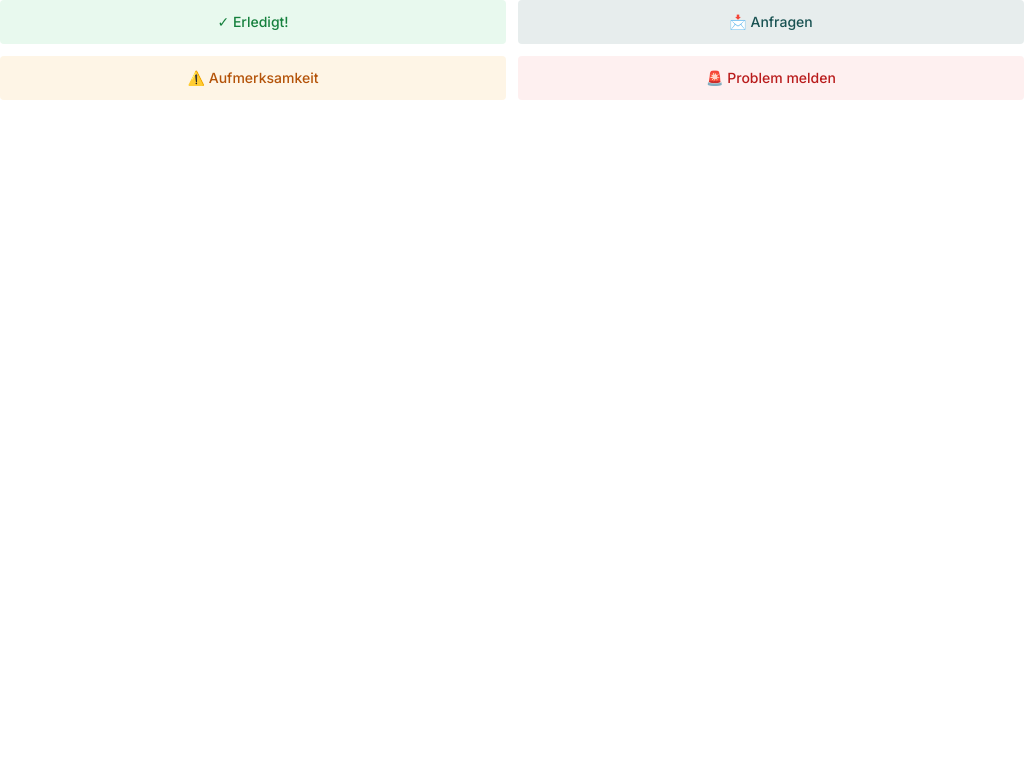
Test case: ChoreActions › closes the modal when the ✕ button is clicked
Click the button "✓ Erledigt!". click: (253, 22)
box: top-left (0, 0), bottom-right (506, 44)
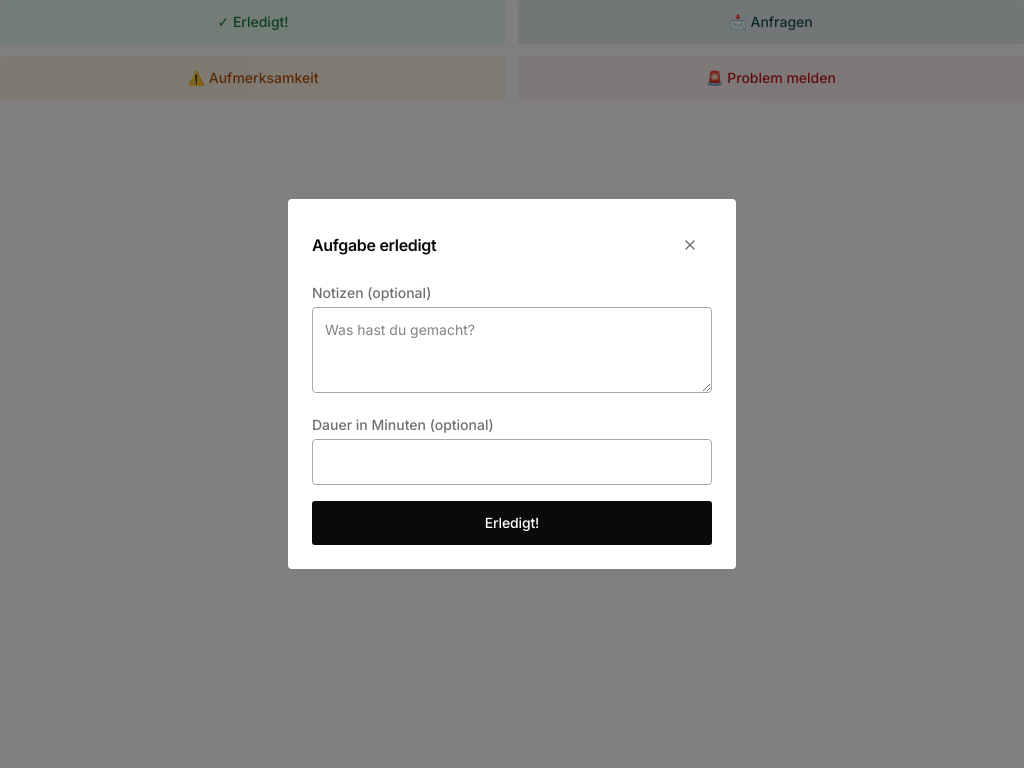
Check: the heading "Aufgabe erledigt" is shown, box top-left (312, 233), bottom-right (436, 257)
Click the button named "Schliessen". click: (690, 245)
box: top-left (668, 223), bottom-right (712, 267)
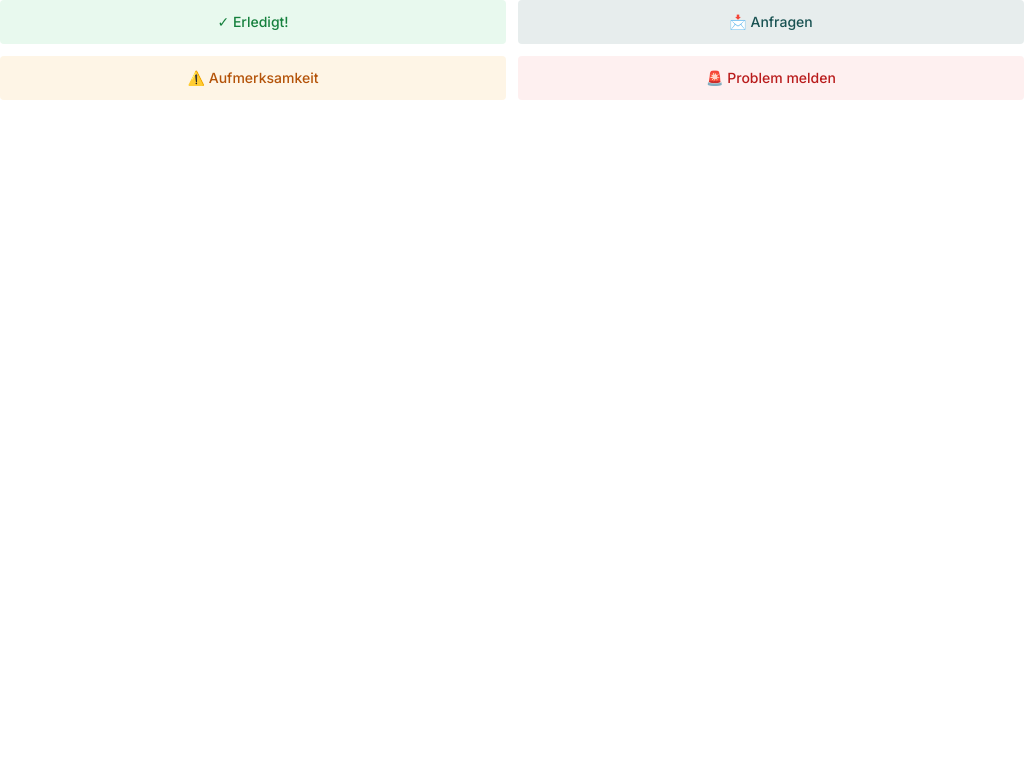
Check: the heading "Aufgabe erledigt" is gone
